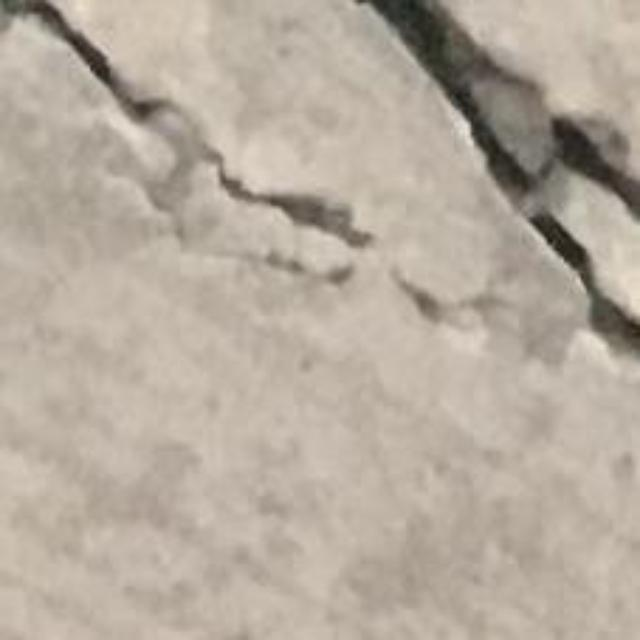crack: (356, 0, 639, 355)
